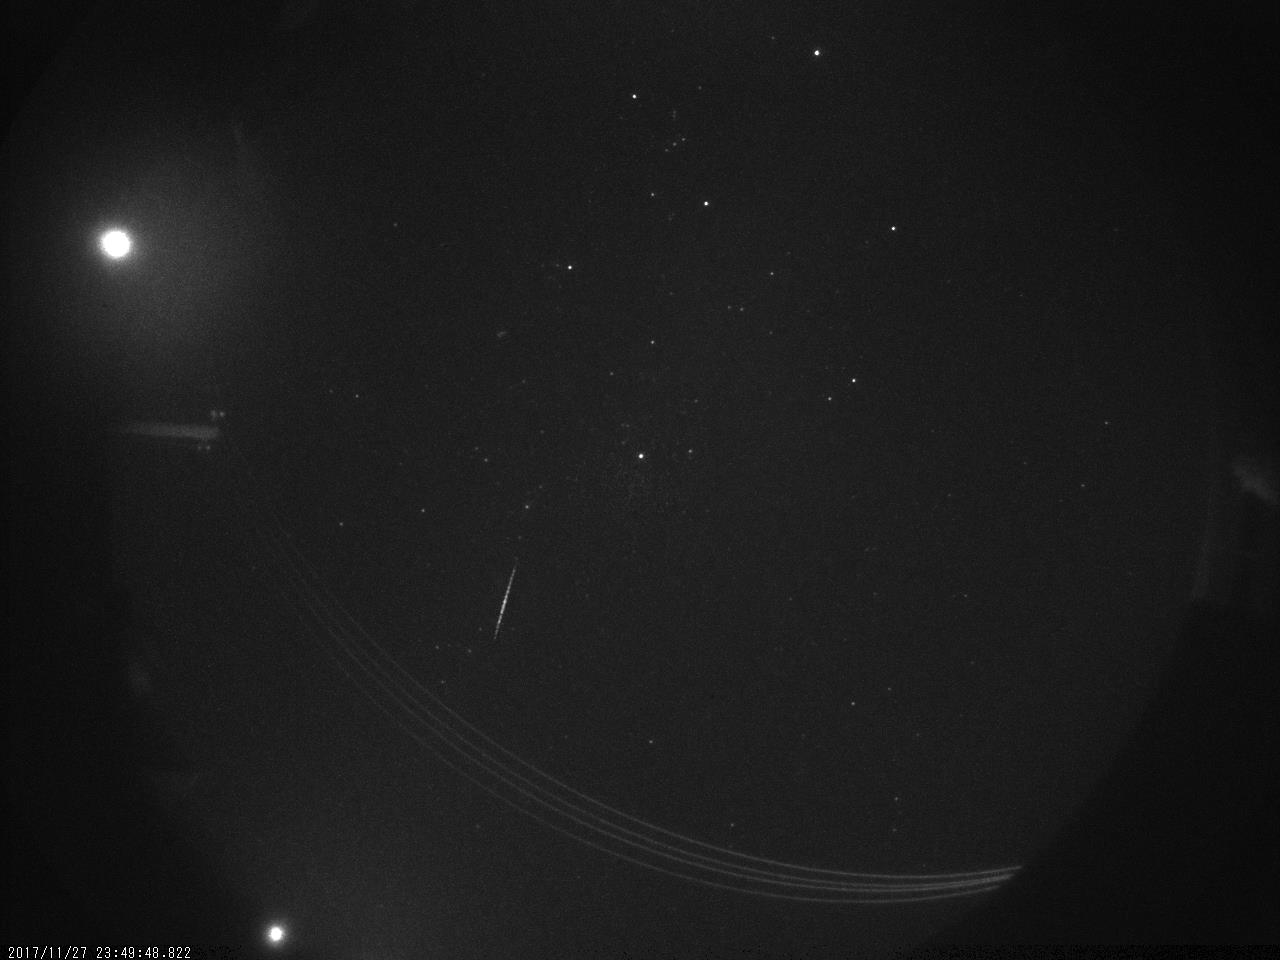meteor: (478, 556, 536, 657)
